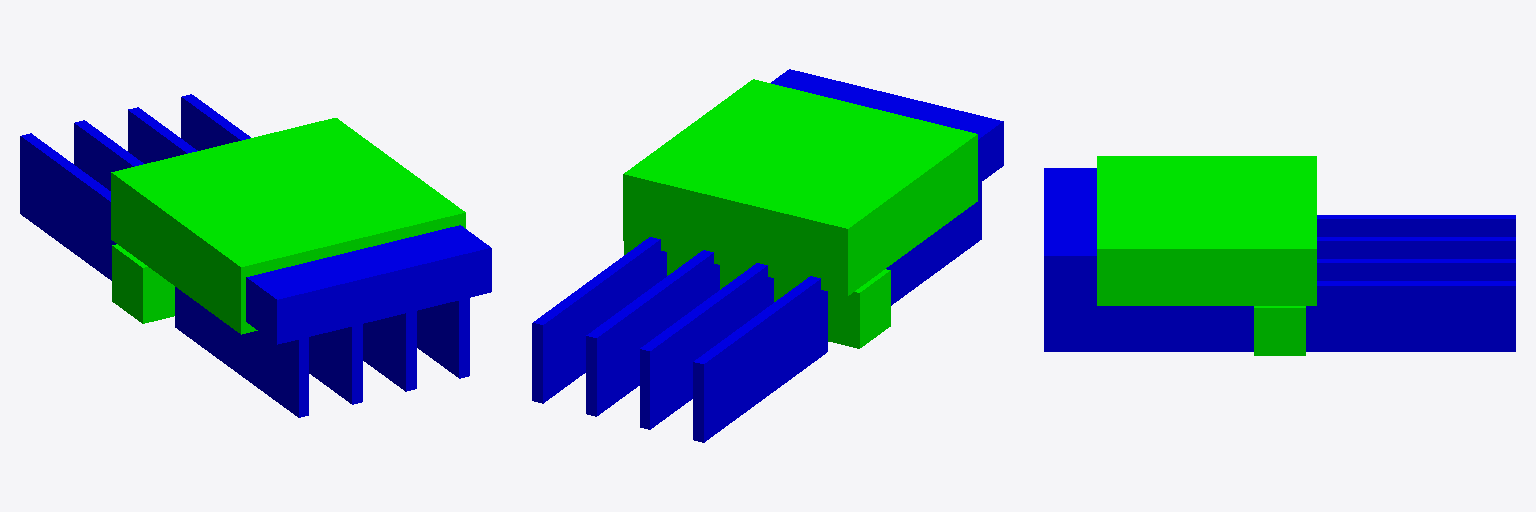
--- What the picture shows (computed from the rendered views, not written in the file) ---
Views: 3 orthographic renders of the robot side by side, from view 1: azimuth 30°, elevation 25°; view 2: azimuth 150°, elevation 25°; view 3: azimuth 270°, elevation 25°.
Model robot with 53 links and 52 joints (52 revolute), rooted at root, posed every joint at zero.
Links seen in each view (by area): view 1: [phone redacted] (×17), 000-100, 000-110, 000, 000-120, 020, 030, 010, 030-100, 020-100, 030-110, 030-120 (+5 smaller); view 2: [phone redacted] (×20), 000-120, 010-120, 030-120, 020-120, 000-100, 000-110, 020-110, 030-100, 020-100, 010-110, 030-110 (+5 smaller); view 3: [phone redacted] (×21), 030-120, 030-100, 030-110, 030, 010-120, 010-100, 010-110, 020-120, 000-120, 020-100, 020-110 (+5 smaller).
Boxes of the visible links, x1,y1,x2,y2 form: [phone redacted] (×17): (20, 94, 469, 417); 000-100: (198, 220, 304, 334); 000-110: (154, 188, 260, 302); 000: (246, 264, 330, 344); 000-120: (111, 159, 217, 270); 020: (354, 238, 437, 318); 030: (408, 225, 491, 304); 010: (300, 251, 383, 331); 030-100: (358, 181, 465, 238); 020-100: (305, 197, 410, 251); 030-110: (316, 149, 421, 195); 030-120: (272, 118, 378, 164); [phone redacted] (×20): (532, 182, 981, 442); 000-120: (784, 184, 890, 295); 010-120: (730, 169, 837, 282); 030-120: (623, 142, 719, 253); 020-120: (677, 156, 772, 266); 000-100: (871, 119, 977, 231); 000-110: (839, 150, 934, 264); 020-110: (720, 124, 826, 168); 030-100: (710, 79, 815, 123); 020-100: (764, 93, 869, 139); 010-110: (774, 140, 875, 183); 030-110: (667, 111, 770, 154); [phone redacted] (×21): (1044, 215, 1515, 355); 030-120: (1243, 223, 1316, 305); 030-100: (1097, 223, 1169, 305); 030-110: (1170, 223, 1242, 305); 030: (1044, 234, 1096, 293); 010-120: (1243, 178, 1316, 200); 010-100: (1097, 178, 1169, 200); 010-110: (1170, 178, 1242, 200); 020-120: (1243, 201, 1316, 222); 000-120: (1243, 156, 1316, 177); 020-100: (1097, 201, 1169, 222); 020-110: (1170, 201, 1242, 222).
Size in the robot's own frame: 2.2 by 4.5 by 1.2 metres.
Geometry: primitives only (box / cylinder / sphere), no mesh files.

robot.urdf — robot:
<robot name = "robot">
    <link name="root">
        <inertial>
            <origin xyz="0.0 0.0 1.5" rpy="0 0 0"/>
            <mass value="1" />
            <inertia ixx="100" ixy="0" ixz="0" iyy="100" iyz="0" izz="100" />
        </inertial>
        <visual>
            <origin xyz="0.0 0.0 1.5" rpy="0 0 0"/>
            <geometry>
                <box size="0 0 0.0001" />
            </geometry>
            <material name="Green">
                <color rgba="0 1.0 0.0 1.0"/>
            </material>
        </visual>
        <collision>
            <origin xyz="0.0 0.0 1.5" rpy="0 0 0"/>
            <geometry>
                <box size="0 0 0.0001" />
            </geometry>
        </collision>
    </link>
    <joint name="root_000" type="revolute">
       <parent link="root"/>
       <child  link="000"/>
       <origin rpy="0 0 0" xyz="0.0 0.0 1.5" />
     <axis xyz="1 0 0"/>
       <limit effort="0.0" lower="-3.14159" upper="3.14159" velocity="0.0"/>
    </joint>
    <link name="000">
        <inertial>
            <origin xyz="0.25 0.0 0.0" rpy="0 0 0"/>
            <mass value="1" />
            <inertia ixx="100" ixy="0" ixz="0" iyy="100" iyz="0" izz="100" />
        </inertial>
        <visual>
            <origin xyz="0.25 0.0 0.0" rpy="0 0 0"/>
            <geometry>
                <box size="0.5 0.5 0.4" />
            </geometry>
            <material name="Blue">
                <color rgba="0 0.0 1.0 1.0"/>
            </material>
        </visual>
        <collision>
            <origin xyz="0.25 0.0 0.0" rpy="0 0 0"/>
            <geometry>
                <box size="0.5 0.5 0.4" />
            </geometry>
        </collision>
    </link>
    <joint name="000_010" type="revolute">
       <parent link="000"/>
       <child  link="010"/>
       <origin rpy="0 0 0" xyz="0.5 0.0 -0.0" />
     <axis xyz="1 0 0"/>
       <limit effort="0.0" lower="-3.14159" upper="3.14159" velocity="0.0"/>
    </joint>
    <link name="010">
        <inertial>
            <origin xyz="0.25 0.0 -0.0" rpy="0 0 0"/>
            <mass value="1" />
            <inertia ixx="100" ixy="0" ixz="0" iyy="100" iyz="0" izz="100" />
        </inertial>
        <visual>
            <origin xyz="0.25 0.0 -0.0" rpy="0 0 0"/>
            <geometry>
                <box size="0.5 0.5 0.4" />
            </geometry>
            <material name="Blue">
                <color rgba="0 0.0 1.0 1.0"/>
            </material>
        </visual>
        <collision>
            <origin xyz="0.25 0.0 -0.0" rpy="0 0 0"/>
            <geometry>
                <box size="0.5 0.5 0.4" />
            </geometry>
        </collision>
    </link>
    <joint name="010_020" type="revolute">
       <parent link="010"/>
       <child  link="020"/>
       <origin rpy="0 0 0" xyz="0.5 0.0 -0.0" />
     <axis xyz="1 0 0"/>
       <limit effort="0.0" lower="-3.14159" upper="3.14159" velocity="0.0"/>
    </joint>
    <link name="020">
        <inertial>
            <origin xyz="0.25 0.0 -0.0" rpy="0 0 0"/>
            <mass value="1" />
            <inertia ixx="100" ixy="0" ixz="0" iyy="100" iyz="0" izz="100" />
        </inertial>
        <visual>
            <origin xyz="0.25 0.0 -0.0" rpy="0 0 0"/>
            <geometry>
                <box size="0.5 0.5 0.4" />
            </geometry>
            <material name="Blue">
                <color rgba="0 0.0 1.0 1.0"/>
            </material>
        </visual>
        <collision>
            <origin xyz="0.25 0.0 -0.0" rpy="0 0 0"/>
            <geometry>
                <box size="0.5 0.5 0.4" />
            </geometry>
        </collision>
    </link>
    <joint name="020_030" type="revolute">
       <parent link="020"/>
       <child  link="030"/>
       <origin rpy="0 0 0" xyz="0.5 0.0 -0.0" />
     <axis xyz="1 0 0"/>
       <limit effort="0.0" lower="-3.14159" upper="3.14159" velocity="0.0"/>
    </joint>
    <link name="030">
        <inertial>
            <origin xyz="0.25 0.0 -0.0" rpy="0 0 0"/>
            <mass value="1" />
            <inertia ixx="100" ixy="0" ixz="0" iyy="100" iyz="0" izz="100" />
        </inertial>
        <visual>
            <origin xyz="0.25 0.0 -0.0" rpy="0 0 0"/>
            <geometry>
                <box size="0.5 0.5 0.4" />
            </geometry>
            <material name="Blue">
                <color rgba="0 0.0 1.0 1.0"/>
            </material>
        </visual>
        <collision>
            <origin xyz="0.25 0.0 -0.0" rpy="0 0 0"/>
            <geometry>
                <box size="0.5 0.5 0.4" />
            </geometry>
        </collision>
    </link>
    <joint name="030_030-100" type="revolute">
       <parent link="030"/>
       <child  link="030-100"/>
       <origin rpy="0 0 0" xyz="0.25 0.25 -0.0" />
     <axis xyz="0 1 0"/>
       <limit effort="0.0" lower="-3.14159" upper="3.14159" velocity="0.0"/>
    </joint>
    <link name="030-100">
        <inertial>
            <origin xyz="0.0 0.35 -0.0" rpy="0 0 0"/>
            <mass value="1" />
            <inertia ixx="100" ixy="0" ixz="0" iyy="100" iyz="0" izz="100" />
        </inertial>
        <visual>
            <origin xyz="0.0 0.35 -0.0" rpy="0 0 0"/>
            <geometry>
                <box size="0.6 0.7 0.6" />
            </geometry>
            <material name="Green">
                <color rgba="0 1.0 0.0 1.0"/>
            </material>
        </visual>
        <collision>
            <origin xyz="0.0 0.35 -0.0" rpy="0 0 0"/>
            <geometry>
                <box size="0.6 0.7 0.6" />
            </geometry>
        </collision>
    </link>
    <joint name="030-100_030-110" type="revolute">
       <parent link="030-100"/>
       <child  link="030-110"/>
       <origin rpy="0 0 0" xyz="0.0 0.7 -0.0" />
     <axis xyz="0 1 0"/>
       <limit effort="0.0" lower="-3.14159" upper="3.14159" velocity="0.0"/>
    </joint>
    <link name="030-110">
        <inertial>
            <origin xyz="0.0 0.35 -0.0" rpy="0 0 0"/>
            <mass value="1" />
            <inertia ixx="100" ixy="0" ixz="0" iyy="100" iyz="0" izz="100" />
        </inertial>
        <visual>
            <origin xyz="0.0 0.35 -0.0" rpy="0 0 0"/>
            <geometry>
                <box size="0.6 0.7 0.6" />
            </geometry>
            <material name="Green">
                <color rgba="0 1.0 0.0 1.0"/>
            </material>
        </visual>
        <collision>
            <origin xyz="0.0 0.35 -0.0" rpy="0 0 0"/>
            <geometry>
                <box size="0.6 0.7 0.6" />
            </geometry>
        </collision>
    </link>
    <joint name="030-110_030-120" type="revolute">
       <parent link="030-110"/>
       <child  link="030-120"/>
       <origin rpy="0 0 0" xyz="0.0 0.7 -0.0" />
     <axis xyz="0 1 0"/>
       <limit effort="0.0" lower="-3.14159" upper="3.14159" velocity="0.0"/>
    </joint>
    <link name="030-120">
        <inertial>
            <origin xyz="0.0 0.35 -0.0" rpy="0 0 0"/>
            <mass value="1" />
            <inertia ixx="100" ixy="0" ixz="0" iyy="100" iyz="0" izz="100" />
        </inertial>
        <visual>
            <origin xyz="0.0 0.35 -0.0" rpy="0 0 0"/>
            <geometry>
                <box size="0.6 0.7 0.6" />
            </geometry>
            <material name="Green">
                <color rgba="0 1.0 0.0 1.0"/>
            </material>
        </visual>
        <collision>
            <origin xyz="0.0 0.35 -0.0" rpy="0 0 0"/>
            <geometry>
                <box size="0.6 0.7 0.6" />
            </geometry>
        </collision>
    </link>
    <joint name="030-120_030-120-200" type="revolute">
       <parent link="030-120"/>
       <child  link="030-120-200"/>
       <origin rpy="0 0 0" xyz="0.0 0.35 -0.3" />
     <axis xyz="0 0 1"/>
       <limit effort="0.0" lower="-3.14159" upper="3.14159" velocity="0.0"/>
    </joint>
    <link name="030-120-200">
        <inertial>
            <origin xyz="0.0 0.0 -0.25" rpy="0 0 0"/>
            <mass value="1" />
            <inertia ixx="100" ixy="0" ixz="0" iyy="100" iyz="0" izz="100" />
        </inertial>
        <visual>
            <origin xyz="0.0 0.0 -0.25" rpy="0 0 0"/>
            <geometry>
                <box size="0.7 0.5 0.5" />
            </geometry>
            <material name="Green">
                <color rgba="0 1.0 0.0 1.0"/>
            </material>
        </visual>
        <collision>
            <origin xyz="0.0 0.0 -0.25" rpy="0 0 0"/>
            <geometry>
                <box size="0.7 0.5 0.5" />
            </geometry>
        </collision>
    </link>
    <joint name="030-120-200_030-120-200-300" type="revolute">
       <parent link="030-120-200"/>
       <child  link="030-120-200-300"/>
       <origin rpy="0 0 0" xyz="0.0 0.25 -0.25" />
     <axis xyz="0 1 0"/>
       <limit effort="0.0" lower="-3.14159" upper="3.14159" velocity="0.0"/>
    </joint>
    <link name="030-120-200-300">
        <inertial>
            <origin xyz="0.0 0.25 -0.0" rpy="0 0 0"/>
            <mass value="1" />
            <inertia ixx="100" ixy="0" ixz="0" iyy="100" iyz="0" izz="100" />
        </inertial>
        <visual>
            <origin xyz="0.0 0.25 -0.0" rpy="0 0 0"/>
            <geometry>
                <box size="0.1 0.5 0.7" />
            </geometry>
            <material name="Blue">
                <color rgba="0 0.0 1.0 1.0"/>
            </material>
        </visual>
        <collision>
            <origin xyz="0.0 0.25 -0.0" rpy="0 0 0"/>
            <geometry>
                <box size="0.1 0.5 0.7" />
            </geometry>
        </collision>
    </link>
    <joint name="030-120-200-300_030-120-200-310" type="revolute">
       <parent link="030-120-200-300"/>
       <child  link="030-120-200-310"/>
       <origin rpy="0 0 0" xyz="0.0 0.5 -0.0" />
     <axis xyz="0 1 0"/>
       <limit effort="0.0" lower="-3.14159" upper="3.14159" velocity="0.0"/>
    </joint>
    <link name="030-120-200-310">
        <inertial>
            <origin xyz="0.0 0.25 -0.0" rpy="0 0 0"/>
            <mass value="1" />
            <inertia ixx="100" ixy="0" ixz="0" iyy="100" iyz="0" izz="100" />
        </inertial>
        <visual>
            <origin xyz="0.0 0.25 -0.0" rpy="0 0 0"/>
            <geometry>
                <box size="0.1 0.5 0.7" />
            </geometry>
            <material name="Blue">
                <color rgba="0 0.0 1.0 1.0"/>
            </material>
        </visual>
        <collision>
            <origin xyz="0.0 0.25 -0.0" rpy="0 0 0"/>
            <geometry>
                <box size="0.1 0.5 0.7" />
            </geometry>
        </collision>
    </link>
    <joint name="030-120-200-310_030-120-200-320" type="revolute">
       <parent link="030-120-200-310"/>
       <child  link="030-120-200-320"/>
       <origin rpy="0 0 0" xyz="0.0 0.5 -0.0" />
     <axis xyz="0 1 0"/>
       <limit effort="0.0" lower="-3.14159" upper="3.14159" velocity="0.0"/>
    </joint>
    <link name="030-120-200-320">
        <inertial>
            <origin xyz="0.0 0.25 -0.0" rpy="0 0 0"/>
            <mass value="1" />
            <inertia ixx="100" ixy="0" ixz="0" iyy="100" iyz="0" izz="100" />
        </inertial>
        <visual>
            <origin xyz="0.0 0.25 -0.0" rpy="0 0 0"/>
            <geometry>
                <box size="0.1 0.5 0.7" />
            </geometry>
            <material name="Blue">
                <color rgba="0 0.0 1.0 1.0"/>
            </material>
        </visual>
        <collision>
            <origin xyz="0.0 0.25 -0.0" rpy="0 0 0"/>
            <geometry>
                <box size="0.1 0.5 0.7" />
            </geometry>
        </collision>
    </link>
    <joint name="030-120-200-320_030-120-200-330" type="revolute">
       <parent link="030-120-200-320"/>
       <child  link="030-120-200-330"/>
       <origin rpy="0 0 0" xyz="0.0 0.5 -0.0" />
     <axis xyz="0 1 0"/>
       <limit effort="0.0" lower="-3.14159" upper="3.14159" velocity="0.0"/>
    </joint>
    <link name="030-120-200-330">
        <inertial>
            <origin xyz="0.0 0.25 -0.0" rpy="0 0 0"/>
            <mass value="1" />
            <inertia ixx="100" ixy="0" ixz="0" iyy="100" iyz="0" izz="100" />
        </inertial>
        <visual>
            <origin xyz="0.0 0.25 -0.0" rpy="0 0 0"/>
            <geometry>
                <box size="0.1 0.5 0.7" />
            </geometry>
            <material name="Blue">
                <color rgba="0 0.0 1.0 1.0"/>
            </material>
        </visual>
        <collision>
            <origin xyz="0.0 0.25 -0.0" rpy="0 0 0"/>
            <geometry>
                <box size="0.1 0.5 0.7" />
            </geometry>
        </collision>
    </link>
    <joint name="030-120-200_030-120-200-301" type="revolute">
       <parent link="030-120-200"/>
       <child  link="030-120-200-301"/>
       <origin rpy="0 0 0" xyz="0.0 -0.25 -0.25" />
     <axis xyz="0 1 0"/>
       <limit effort="0.0" lower="-3.14159" upper="3.14159" velocity="0.0"/>
    </joint>
    <link name="030-120-200-301">
        <inertial>
            <origin xyz="0.0 -0.25 -0.0" rpy="0 0 0"/>
            <mass value="1" />
            <inertia ixx="100" ixy="0" ixz="0" iyy="100" iyz="0" izz="100" />
        </inertial>
        <visual>
            <origin xyz="0.0 -0.25 -0.0" rpy="0 0 0"/>
            <geometry>
                <box size="0.1 0.5 0.7" />
            </geometry>
            <material name="Blue">
                <color rgba="0 0.0 1.0 1.0"/>
            </material>
        </visual>
        <collision>
            <origin xyz="0.0 -0.25 -0.0" rpy="0 0 0"/>
            <geometry>
                <box size="0.1 0.5 0.7" />
            </geometry>
        </collision>
    </link>
    <joint name="030-120-200-301_030-120-200-311" type="revolute">
       <parent link="030-120-200-301"/>
       <child  link="030-120-200-311"/>
       <origin rpy="0 0 0" xyz="0.0 -0.5 -0.0" />
     <axis xyz="0 1 0"/>
       <limit effort="0.0" lower="-3.14159" upper="3.14159" velocity="0.0"/>
    </joint>
    <link name="030-120-200-311">
        <inertial>
            <origin xyz="0.0 -0.25 -0.0" rpy="0 0 0"/>
            <mass value="1" />
            <inertia ixx="100" ixy="0" ixz="0" iyy="100" iyz="0" izz="100" />
        </inertial>
        <visual>
            <origin xyz="0.0 -0.25 -0.0" rpy="0 0 0"/>
            <geometry>
                <box size="0.1 0.5 0.7" />
            </geometry>
            <material name="Blue">
                <color rgba="0 0.0 1.0 1.0"/>
            </material>
        </visual>
        <collision>
            <origin xyz="0.0 -0.25 -0.0" rpy="0 0 0"/>
            <geometry>
                <box size="0.1 0.5 0.7" />
            </geometry>
        </collision>
    </link>
    <joint name="030-120-200-311_030-120-200-321" type="revolute">
       <parent link="030-120-200-311"/>
       <child  link="030-120-200-321"/>
       <origin rpy="0 0 0" xyz="0.0 -0.5 -0.0" />
     <axis xyz="0 1 0"/>
       <limit effort="0.0" lower="-3.14159" upper="3.14159" velocity="0.0"/>
    </joint>
    <link name="030-120-200-321">
        <inertial>
            <origin xyz="0.0 -0.25 -0.0" rpy="0 0 0"/>
            <mass value="1" />
            <inertia ixx="100" ixy="0" ixz="0" iyy="100" iyz="0" izz="100" />
        </inertial>
        <visual>
            <origin xyz="0.0 -0.25 -0.0" rpy="0 0 0"/>
            <geometry>
                <box size="0.1 0.5 0.7" />
            </geometry>
            <material name="Blue">
                <color rgba="0 0.0 1.0 1.0"/>
            </material>
        </visual>
        <collision>
            <origin xyz="0.0 -0.25 -0.0" rpy="0 0 0"/>
            <geometry>
                <box size="0.1 0.5 0.7" />
            </geometry>
        </collision>
    </link>
    <joint name="030-120-200-321_030-120-200-331" type="revolute">
       <parent link="030-120-200-321"/>
       <child  link="030-120-200-331"/>
       <origin rpy="0 0 0" xyz="0.0 -0.5 -0.0" />
     <axis xyz="0 1 0"/>
       <limit effort="0.0" lower="-3.14159" upper="3.14159" velocity="0.0"/>
    </joint>
    <link name="030-120-200-331">
        <inertial>
            <origin xyz="0.0 -0.25 -0.0" rpy="0 0 0"/>
            <mass value="1" />
            <inertia ixx="100" ixy="0" ixz="0" iyy="100" iyz="0" izz="100" />
        </inertial>
        <visual>
            <origin xyz="0.0 -0.25 -0.0" rpy="0 0 0"/>
            <geometry>
                <box size="0.1 0.5 0.7" />
            </geometry>
            <material name="Blue">
                <color rgba="0 0.0 1.0 1.0"/>
            </material>
        </visual>
        <collision>
            <origin xyz="0.0 -0.25 -0.0" rpy="0 0 0"/>
            <geometry>
                <box size="0.1 0.5 0.7" />
            </geometry>
        </collision>
    </link>
    <joint name="020_020-100" type="revolute">
       <parent link="020"/>
       <child  link="020-100"/>
       <origin rpy="0 0 0" xyz="0.25 0.25 -0.0" />
     <axis xyz="0 1 0"/>
       <limit effort="0.0" lower="-3.14159" upper="3.14159" velocity="0.0"/>
    </joint>
    <link name="020-100">
        <inertial>
            <origin xyz="0.0 0.35 -0.0" rpy="0 0 0"/>
            <mass value="1" />
            <inertia ixx="100" ixy="0" ixz="0" iyy="100" iyz="0" izz="100" />
        </inertial>
        <visual>
            <origin xyz="0.0 0.35 -0.0" rpy="0 0 0"/>
            <geometry>
                <box size="0.6 0.7 0.6" />
            </geometry>
            <material name="Green">
                <color rgba="0 1.0 0.0 1.0"/>
            </material>
        </visual>
        <collision>
            <origin xyz="0.0 0.35 -0.0" rpy="0 0 0"/>
            <geometry>
                <box size="0.6 0.7 0.6" />
            </geometry>
        </collision>
    </link>
    <joint name="020-100_020-110" type="revolute">
       <parent link="020-100"/>
       <child  link="020-110"/>
       <origin rpy="0 0 0" xyz="0.0 0.7 -0.0" />
     <axis xyz="0 1 0"/>
       <limit effort="0.0" lower="-3.14159" upper="3.14159" velocity="0.0"/>
    </joint>
    <link name="020-110">
        <inertial>
            <origin xyz="0.0 0.35 -0.0" rpy="0 0 0"/>
            <mass value="1" />
            <inertia ixx="100" ixy="0" ixz="0" iyy="100" iyz="0" izz="100" />
        </inertial>
        <visual>
            <origin xyz="0.0 0.35 -0.0" rpy="0 0 0"/>
            <geometry>
                <box size="0.6 0.7 0.6" />
            </geometry>
            <material name="Green">
                <color rgba="0 1.0 0.0 1.0"/>
            </material>
        </visual>
        <collision>
            <origin xyz="0.0 0.35 -0.0" rpy="0 0 0"/>
            <geometry>
                <box size="0.6 0.7 0.6" />
            </geometry>
        </collision>
    </link>
    <joint name="020-110_020-120" type="revolute">
       <parent link="020-110"/>
       <child  link="020-120"/>
       <origin rpy="0 0 0" xyz="0.0 0.7 -0.0" />
     <axis xyz="0 1 0"/>
       <limit effort="0.0" lower="-3.14159" upper="3.14159" velocity="0.0"/>
    </joint>
    <link name="020-120">
        <inertial>
            <origin xyz="0.0 0.35 -0.0" rpy="0 0 0"/>
            <mass value="1" />
            <inertia ixx="100" ixy="0" ixz="0" iyy="100" iyz="0" izz="100" />
        </inertial>
        <visual>
            <origin xyz="0.0 0.35 -0.0" rpy="0 0 0"/>
            <geometry>
                <box size="0.6 0.7 0.6" />
            </geometry>
            <material name="Green">
                <color rgba="0 1.0 0.0 1.0"/>
            </material>
        </visual>
        <collision>
            <origin xyz="0.0 0.35 -0.0" rpy="0 0 0"/>
            <geometry>
                <box size="0.6 0.7 0.6" />
            </geometry>
        </collision>
    </link>
    <joint name="020-120_020-120-200" type="revolute">
       <parent link="020-120"/>
       <child  link="020-120-200"/>
       <origin rpy="0 0 0" xyz="0.0 0.35 -0.3" />
     <axis xyz="0 0 1"/>
       <limit effort="0.0" lower="-3.14159" upper="3.14159" velocity="0.0"/>
    </joint>
    <link name="020-120-200">
        <inertial>
            <origin xyz="0.0 0.0 -0.25" rpy="0 0 0"/>
            <mass value="1" />
            <inertia ixx="100" ixy="0" ixz="0" iyy="100" iyz="0" izz="100" />
        </inertial>
        <visual>
            <origin xyz="0.0 0.0 -0.25" rpy="0 0 0"/>
            <geometry>
                <box size="0.7 0.5 0.5" />
            </geometry>
            <material name="Green">
                <color rgba="0 1.0 0.0 1.0"/>
            </material>
        </visual>
        <collision>
            <origin xyz="0.0 0.0 -0.25" rpy="0 0 0"/>
            <geometry>
                <box size="0.7 0.5 0.5" />
            </geometry>
        </collision>
    </link>
    <joint name="020-120-200_020-120-200-300" type="revolute">
       <parent link="020-120-200"/>
       <child  link="020-120-200-300"/>
       <origin rpy="0 0 0" xyz="0.0 0.25 -0.25" />
     <axis xyz="0 1 0"/>
       <limit effort="0.0" lower="-3.14159" upper="3.14159" velocity="0.0"/>
    </joint>
    <link name="020-120-200-300">
        <inertial>
            <origin xyz="0.0 0.25 -0.0" rpy="0 0 0"/>
            <mass value="1" />
            <inertia ixx="100" ixy="0" ixz="0" iyy="100" iyz="0" izz="100" />
        </inertial>
        <visual>
            <origin xyz="0.0 0.25 -0.0" rpy="0 0 0"/>
            <geometry>
                <box size="0.1 0.5 0.7" />
            </geometry>
            <material name="Blue">
                <color rgba="0 0.0 1.0 1.0"/>
            </material>
        </visual>
        <collision>
            <origin xyz="0.0 0.25 -0.0" rpy="0 0 0"/>
            <geometry>
                <box size="0.1 0.5 0.7" />
            </geometry>
        </collision>
    </link>
    <joint name="020-120-200-300_020-120-200-310" type="revolute">
       <parent link="020-120-200-300"/>
       <child  link="020-120-200-310"/>
       <origin rpy="0 0 0" xyz="0.0 0.5 -0.0" />
     <axis xyz="0 1 0"/>
       <limit effort="0.0" lower="-3.14159" upper="3.14159" velocity="0.0"/>
    </joint>
    <link name="020-120-200-310">
        <inertial>
            <origin xyz="0.0 0.25 -0.0" rpy="0 0 0"/>
            <mass value="1" />
            <inertia ixx="100" ixy="0" ixz="0" iyy="100" iyz="0" izz="100" />
        </inertial>
        <visual>
            <origin xyz="0.0 0.25 -0.0" rpy="0 0 0"/>
            <geometry>
                <box size="0.1 0.5 0.7" />
            </geometry>
            <material name="Blue">
                <color rgba="0 0.0 1.0 1.0"/>
            </material>
        </visual>
        <collision>
            <origin xyz="0.0 0.25 -0.0" rpy="0 0 0"/>
            <geometry>
                <box size="0.1 0.5 0.7" />
            </geometry>
        </collision>
    </link>
    <joint name="020-120-200-310_020-120-200-320" type="revolute">
       <parent link="020-120-200-310"/>
       <child  link="020-120-200-320"/>
       <origin rpy="0 0 0" xyz="0.0 0.5 -0.0" />
     <axis xyz="0 1 0"/>
       <limit effort="0.0" lower="-3.14159" upper="3.14159" velocity="0.0"/>
    </joint>
    <link name="020-120-200-320">
        <inertial>
            <origin xyz="0.0 0.25 -0.0" rpy="0 0 0"/>
            <mass value="1" />
            <inertia ixx="100" ixy="0" ixz="0" iyy="100" iyz="0" izz="100" />
        </inertial>
        <visual>
            <origin xyz="0.0 0.25 -0.0" rpy="0 0 0"/>
            <geometry>
                <box size="0.1 0.5 0.7" />
            </geometry>
            <material name="Blue">
                <color rgba="0 0.0 1.0 1.0"/>
            </material>
        </visual>
        <collision>
            <origin xyz="0.0 0.25 -0.0" rpy="0 0 0"/>
            <geometry>
                <box size="0.1 0.5 0.7" />
            </geometry>
        </collision>
    </link>
    <joint name="020-120-200-320_020-120-200-330" type="revolute">
       <parent link="020-120-200-320"/>
       <child  link="020-120-200-330"/>
       <origin rpy="0 0 0" xyz="0.0 0.5 -0.0" />
     <axis xyz="0 1 0"/>
       <limit effort="0.0" lower="-3.14159" upper="3.14159" velocity="0.0"/>
    </joint>
    <link name="020-120-200-330">
        <inertial>
            <origin xyz="0.0 0.25 -0.0" rpy="0 0 0"/>
            <mass value="1" />
            <inertia ixx="100" ixy="0" ixz="0" iyy="100" iyz="0" izz="100" />
        </inertial>
        <visual>
            <origin xyz="0.0 0.25 -0.0" rpy="0 0 0"/>
            <geometry>
                <box size="0.1 0.5 0.7" />
            </geometry>
            <material name="Blue">
                <color rgba="0 0.0 1.0 1.0"/>
            </material>
        </visual>
        <collision>
            <origin xyz="0.0 0.25 -0.0" rpy="0 0 0"/>
            <geometry>
                <box size="0.1 0.5 0.7" />
            </geometry>
        </collision>
    </link>
    <joint name="020-120-200_020-120-200-301" type="revolute">
       <parent link="020-120-200"/>
       <child  link="020-120-200-301"/>
       <origin rpy="0 0 0" xyz="0.0 -0.25 -0.25" />
     <axis xyz="0 1 0"/>
       <limit effort="0.0" lower="-3.14159" upper="3.14159" velocity="0.0"/>
    </joint>
    <link name="020-120-200-301">
        <inertial>
            <origin xyz="0.0 -0.25 -0.0" rpy="0 0 0"/>
            <mass value="1" />
            <inertia ixx="100" ixy="0" ixz="0" iyy="100" iyz="0" izz="100" />
        </inertial>
        <visual>
            <origin xyz="0.0 -0.25 -0.0" rpy="0 0 0"/>
            <geometry>
                <box size="0.1 0.5 0.7" />
            </geometry>
            <material name="Blue">
                <color rgba="0 0.0 1.0 1.0"/>
            </material>
        </visual>
        <collision>
            <origin xyz="0.0 -0.25 -0.0" rpy="0 0 0"/>
            <geometry>
                <box size="0.1 0.5 0.7" />
            </geometry>
        </collision>
    </link>
    <joint name="020-120-200-301_020-120-200-311" type="revolute">
       <parent link="020-120-200-301"/>
       <child  link="020-120-200-311"/>
       <origin rpy="0 0 0" xyz="0.0 -0.5 -0.0" />
     <axis xyz="0 1 0"/>
       <limit effort="0.0" lower="-3.14159" upper="3.14159" velocity="0.0"/>
    </joint>
    <link name="020-120-200-311">
        <inertial>
            <origin xyz="0.0 -0.25 -0.0" rpy="0 0 0"/>
            <mass value="1" />
            <inertia ixx="100" ixy="0" ixz="0" iyy="100" iyz="0" izz="100" />
        </inertial>
        <visual>
            <origin xyz="0.0 -0.25 -0.0" rpy="0 0 0"/>
            <geometry>
                <box size="0.1 0.5 0.7" />
            </geometry>
            <material name="Blue">
                <color rgba="0 0.0 1.0 1.0"/>
            </material>
        </visual>
        <collision>
            <origin xyz="0.0 -0.25 -0.0" rpy="0 0 0"/>
            <geometry>
                <box size="0.1 0.5 0.7" />
            </geometry>
        </collision>
    </link>
    <joint name="020-120-200-311_020-120-200-321" type="revolute">
       <parent link="020-120-200-311"/>
       <child  link="020-120-200-321"/>
       <origin rpy="0 0 0" xyz="0.0 -0.5 -0.0" />
     <axis xyz="0 1 0"/>
       <limit effort="0.0" lower="-3.14159" upper="3.14159" velocity="0.0"/>
    </joint>
    <link name="020-120-200-321">
        <inertial>
            <origin xyz="0.0 -0.25 -0.0" rpy="0 0 0"/>
            <mass value="1" />
            <inertia ixx="100" ixy="0" ixz="0" iyy="100" iyz="0" izz="100" />
        </inertial>
        <visual>
            <origin xyz="0.0 -0.25 -0.0" rpy="0 0 0"/>
            <geometry>
                <box size="0.1 0.5 0.7" />
            </geometry>
            <material name="Blue">
                <color rgba="0 0.0 1.0 1.0"/>
            </material>
        </visual>
        <collision>
            <origin xyz="0.0 -0.25 -0.0" rpy="0 0 0"/>
            <geometry>
                <box size="0.1 0.5 0.7" />
            </geometry>
        </collision>
    </link>
    <joint name="020-120-200-321_020-120-200-331" type="revolute">
       <parent link="020-120-200-321"/>
       <child  link="020-120-200-331"/>
       <origin rpy="0 0 0" xyz="0.0 -0.5 -0.0" />
     <axis xyz="0 1 0"/>
       <limit effort="0.0" lower="-3.14159" upper="3.14159" velocity="0.0"/>
    </joint>
    <link name="020-120-200-331">
        <inertial>
            <origin xyz="0.0 -0.25 -0.0" rpy="0 0 0"/>
            <mass value="1" />
            <inertia ixx="100" ixy="0" ixz="0" iyy="100" iyz="0" izz="100" />
        </inertial>
        <visual>
            <origin xyz="0.0 -0.25 -0.0" rpy="0 0 0"/>
            <geometry>
                <box size="0.1 0.5 0.7" />
            </geometry>
            <material name="Blue">
                <color rgba="0 0.0 1.0 1.0"/>
            </material>
        </visual>
        <collision>
            <origin xyz="0.0 -0.25 -0.0" rpy="0 0 0"/>
            <geometry>
                <box size="0.1 0.5 0.7" />
            </geometry>
        </collision>
    </link>
    <joint name="010_010-100" type="revolute">
       <parent link="010"/>
       <child  link="010-100"/>
       <origin rpy="0 0 0" xyz="0.25 0.25 -0.0" />
     <axis xyz="0 1 0"/>
       <limit effort="0.0" lower="-3.14159" upper="3.14159" velocity="0.0"/>
    </joint>
    <link name="010-100">
        <inertial>
            <origin xyz="0.0 0.35 -0.0" rpy="0 0 0"/>
            <mass value="1" />
            <inertia ixx="100" ixy="0" ixz="0" iyy="100" iyz="0" izz="100" />
        </inertial>
        <visual>
            <origin xyz="0.0 0.35 -0.0" rpy="0 0 0"/>
            <geometry>
                <box size="0.6 0.7 0.6" />
            </geometry>
            <material name="Green">
                <color rgba="0 1.0 0.0 1.0"/>
            </material>
        </visual>
        <collision>
            <origin xyz="0.0 0.35 -0.0" rpy="0 0 0"/>
            <geometry>
                <box size="0.6 0.7 0.6" />
            </geometry>
        </collision>
    </link>
    <joint name="010-100_010-110" type="revolute">
       <parent link="010-100"/>
       <child  link="010-110"/>
       <origin rpy="0 0 0" xyz="0.0 0.7 -0.0" />
     <axis xyz="0 1 0"/>
       <limit effort="0.0" lower="-3.14159" upper="3.14159" velocity="0.0"/>
    </joint>
    <link name="010-110">
        <inertial>
            <origin xyz="0.0 0.35 -0.0" rpy="0 0 0"/>
            <mass value="1" />
            <inertia ixx="100" ixy="0" ixz="0" iyy="100" iyz="0" izz="100" />
        </inertial>
        <visual>
            <origin xyz="0.0 0.35 -0.0" rpy="0 0 0"/>
            <geometry>
                <box size="0.6 0.7 0.6" />
            </geometry>
            <material name="Green">
                <color rgba="0 1.0 0.0 1.0"/>
            </material>
        </visual>
        <collision>
            <origin xyz="0.0 0.35 -0.0" rpy="0 0 0"/>
            <geometry>
                <box size="0.6 0.7 0.6" />
            </geometry>
        </collision>
    </link>
    <joint name="010-110_010-120" type="revolute">
       <parent link="010-110"/>
       <child  link="010-120"/>
       <origin rpy="0 0 0" xyz="0.0 0.7 -0.0" />
     <axis xyz="0 1 0"/>
       <limit effort="0.0" lower="-3.14159" upper="3.14159" velocity="0.0"/>
    </joint>
    <link name="010-120">
        <inertial>
            <origin xyz="0.0 0.35 -0.0" rpy="0 0 0"/>
            <mass value="1" />
            <inertia ixx="100" ixy="0" ixz="0" iyy="100" iyz="0" izz="100" />
        </inertial>
        <visual>
            <origin xyz="0.0 0.35 -0.0" rpy="0 0 0"/>
            <geometry>
                <box size="0.6 0.7 0.6" />
            </geometry>
            <material name="Green">
                <color rgba="0 1.0 0.0 1.0"/>
            </material>
        </visual>
        <collision>
            <origin xyz="0.0 0.35 -0.0" rpy="0 0 0"/>
            <geometry>
                <box size="0.6 0.7 0.6" />
            </geometry>
        </collision>
    </link>
    <joint name="010-120_010-120-200" type="revolute">
       <parent link="010-120"/>
       <child  link="010-120-200"/>
       <origin rpy="0 0 0" xyz="0.0 0.35 -0.3" />
     <axis xyz="0 0 1"/>
       <limit effort="0.0" lower="-3.14159" upper="3.14159" velocity="0.0"/>
    </joint>
    <link name="010-120-200">
        <inertial>
            <origin xyz="0.0 0.0 -0.25" rpy="0 0 0"/>
            <mass value="1" />
            <inertia ixx="100" ixy="0" ixz="0" iyy="100" iyz="0" izz="100" />
        </inertial>
        <visual>
            <origin xyz="0.0 0.0 -0.25" rpy="0 0 0"/>
            <geometry>
                <box size="0.7 0.5 0.5" />
            </geometry>
            <material name="Green">
                <color rgba="0 1.0 0.0 1.0"/>
            </material>
        </visual>
        <collision>
            <origin xyz="0.0 0.0 -0.25" rpy="0 0 0"/>
            <geometry>
                <box size="0.7 0.5 0.5" />
            </geometry>
        </collision>
    </link>
    <joint name="010-120-200_010-120-200-300" type="revolute">
       <parent link="010-120-200"/>
       <child  link="010-120-200-300"/>
       <origin rpy="0 0 0" xyz="0.0 0.25 -0.25" />
     <axis xyz="0 1 0"/>
       <limit effort="0.0" lower="-3.14159" upper="3.14159" velocity="0.0"/>
    </joint>
    <link name="010-120-200-300">
        <inertial>
            <origin xyz="0.0 0.25 -0.0" rpy="0 0 0"/>
            <mass value="1" />
            <inertia ixx="100" ixy="0" ixz="0" iyy="100" iyz="0" izz="100" />
        </inertial>
        <visual>
            <origin xyz="0.0 0.25 -0.0" rpy="0 0 0"/>
            <geometry>
                <box size="0.1 0.5 0.7" />
            </geometry>
            <material name="Blue">
                <color rgba="0 0.0 1.0 1.0"/>
            </material>
        </visual>
        <collision>
            <origin xyz="0.0 0.25 -0.0" rpy="0 0 0"/>
            <geometry>
                <box size="0.1 0.5 0.7" />
            </geometry>
        </collision>
    </link>
    <joint name="010-120-200-300_010-120-200-310" type="revolute">
       <parent link="010-120-200-300"/>
       <child  link="010-120-200-310"/>
       <origin rpy="0 0 0" xyz="0.0 0.5 -0.0" />
     <axis xyz="0 1 0"/>
       <limit effort="0.0" lower="-3.14159" upper="3.14159" velocity="0.0"/>
    </joint>
    <link name="010-120-200-310">
        <inertial>
            <origin xyz="0.0 0.25 -0.0" rpy="0 0 0"/>
            <mass value="1" />
            <inertia ixx="100" ixy="0" ixz="0" iyy="100" iyz="0" izz="100" />
        </inertial>
        <visual>
            <origin xyz="0.0 0.25 -0.0" rpy="0 0 0"/>
            <geometry>
                <box size="0.1 0.5 0.7" />
            </geometry>
            <material name="Blue">
                <color rgba="0 0.0 1.0 1.0"/>
            </material>
        </visual>
        <collision>
            <origin xyz="0.0 0.25 -0.0" rpy="0 0 0"/>
            <geometry>
                <box size="0.1 0.5 0.7" />
            </geometry>
        </collision>
    </link>
    <joint name="010-120-200-310_010-120-200-320" type="revolute">
       <parent link="010-120-200-310"/>
       <child  link="010-120-200-320"/>
       <origin rpy="0 0 0" xyz="0.0 0.5 -0.0" />
     <axis xyz="0 1 0"/>
       <limit effort="0.0" lower="-3.14159" upper="3.14159" velocity="0.0"/>
    </joint>
    <link name="010-120-200-320">
        <inertial>
            <origin xyz="0.0 0.25 -0.0" rpy="0 0 0"/>
            <mass value="1" />
            <inertia ixx="100" ixy="0" ixz="0" iyy="100" iyz="0" izz="100" />
        </inertial>
        <visual>
            <origin xyz="0.0 0.25 -0.0" rpy="0 0 0"/>
            <geometry>
                <box size="0.1 0.5 0.7" />
            </geometry>
            <material name="Blue">
                <color rgba="0 0.0 1.0 1.0"/>
            </material>
        </visual>
        <collision>
            <origin xyz="0.0 0.25 -0.0" rpy="0 0 0"/>
            <geometry>
                <box size="0.1 0.5 0.7" />
            </geometry>
        </collision>
    </link>
    <joint name="010-120-200-320_010-120-200-330" type="revolute">
       <parent link="010-120-200-320"/>
       <child  link="010-120-200-330"/>
       <origin rpy="0 0 0" xyz="0.0 0.5 -0.0" />
     <axis xyz="0 1 0"/>
       <limit effort="0.0" lower="-3.14159" upper="3.14159" velocity="0.0"/>
    </joint>
    <link name="010-120-200-330">
        <inertial>
            <origin xyz="0.0 0.25 -0.0" rpy="0 0 0"/>
            <mass value="1" />
            <inertia ixx="100" ixy="0" ixz="0" iyy="100" iyz="0" izz="100" />
        </inertial>
        <visual>
            <origin xyz="0.0 0.25 -0.0" rpy="0 0 0"/>
            <geometry>
                <box size="0.1 0.5 0.7" />
            </geometry>
            <material name="Blue">
                <color rgba="0 0.0 1.0 1.0"/>
            </material>
        </visual>
        <collision>
            <origin xyz="0.0 0.25 -0.0" rpy="0 0 0"/>
            <geometry>
                <box size="0.1 0.5 0.7" />
            </geometry>
        </collision>
    </link>
    <joint name="010-120-200_010-120-200-301" type="revolute">
       <parent link="010-120-200"/>
       <child  link="010-120-200-301"/>
       <origin rpy="0 0 0" xyz="0.0 -0.25 -0.25" />
     <axis xyz="0 1 0"/>
       <limit effort="0.0" lower="-3.14159" upper="3.14159" velocity="0.0"/>
    </joint>
    <link name="010-120-200-301">
        <inertial>
            <origin xyz="0.0 -0.25 -0.0" rpy="0 0 0"/>
            <mass value="1" />
            <inertia ixx="100" ixy="0" ixz="0" iyy="100" iyz="0" izz="100" />
        </inertial>
        <visual>
            <origin xyz="0.0 -0.25 -0.0" rpy="0 0 0"/>
            <geometry>
                <box size="0.1 0.5 0.7" />
            </geometry>
            <material name="Blue">
                <color rgba="0 0.0 1.0 1.0"/>
            </material>
        </visual>
        <collision>
            <origin xyz="0.0 -0.25 -0.0" rpy="0 0 0"/>
            <geometry>
                <box size="0.1 0.5 0.7" />
            </geometry>
        </collision>
    </link>
    <joint name="010-120-200-301_010-120-200-311" type="revolute">
       <parent link="010-120-200-301"/>
       <child  link="010-120-200-311"/>
       <origin rpy="0 0 0" xyz="0.0 -0.5 -0.0" />
     <axis xyz="0 1 0"/>
       <limit effort="0.0" lower="-3.14159" upper="3.14159" velocity="0.0"/>
    </joint>
    <link name="010-120-200-311">
        <inertial>
            <origin xyz="0.0 -0.25 -0.0" rpy="0 0 0"/>
            <mass value="1" />
            <inertia ixx="100" ixy="0" ixz="0" iyy="100" iyz="0" izz="100" />
        </inertial>
        <visual>
            <origin xyz="0.0 -0.25 -0.0" rpy="0 0 0"/>
            <geometry>
                <box size="0.1 0.5 0.7" />
            </geometry>
            <material name="Blue">
                <color rgba="0 0.0 1.0 1.0"/>
            </material>
        </visual>
        <collision>
            <origin xyz="0.0 -0.25 -0.0" rpy="0 0 0"/>
            <geometry>
                <box size="0.1 0.5 0.7" />
            </geometry>
        </collision>
    </link>
    <joint name="010-120-200-311_010-120-200-321" type="revolute">
       <parent link="010-120-200-311"/>
       <child  link="010-120-200-321"/>
       <origin rpy="0 0 0" xyz="0.0 -0.5 -0.0" />
     <axis xyz="0 1 0"/>
       <limit effort="0.0" lower="-3.14159" upper="3.14159" velocity="0.0"/>
    </joint>
    <link name="010-120-200-321">
        <inertial>
            <origin xyz="0.0 -0.25 -0.0" rpy="0 0 0"/>
            <mass value="1" />
            <inertia ixx="100" ixy="0" ixz="0" iyy="100" iyz="0" izz="100" />
        </inertial>
        <visual>
            <origin xyz="0.0 -0.25 -0.0" rpy="0 0 0"/>
            <geometry>
                <box size="0.1 0.5 0.7" />
            </geometry>
            <material name="Blue">
                <color rgba="0 0.0 1.0 1.0"/>
            </material>
        </visual>
        <collision>
            <origin xyz="0.0 -0.25 -0.0" rpy="0 0 0"/>
            <geometry>
                <box size="0.1 0.5 0.7" />
            </geometry>
        </collision>
    </link>
    <joint name="010-120-200-321_010-120-200-331" type="revolute">
       <parent link="010-120-200-321"/>
       <child  link="010-120-200-331"/>
       <origin rpy="0 0 0" xyz="0.0 -0.5 -0.0" />
     <axis xyz="0 1 0"/>
       <limit effort="0.0" lower="-3.14159" upper="3.14159" velocity="0.0"/>
    </joint>
    <link name="010-120-200-331">
        <inertial>
            <origin xyz="0.0 -0.25 -0.0" rpy="0 0 0"/>
            <mass value="1" />
            <inertia ixx="100" ixy="0" ixz="0" iyy="100" iyz="0" izz="100" />
        </inertial>
        <visual>
            <origin xyz="0.0 -0.25 -0.0" rpy="0 0 0"/>
            <geometry>
                <box size="0.1 0.5 0.7" />
            </geometry>
            <material name="Blue">
                <color rgba="0 0.0 1.0 1.0"/>
            </material>
        </visual>
        <collision>
            <origin xyz="0.0 -0.25 -0.0" rpy="0 0 0"/>
            <geometry>
                <box size="0.1 0.5 0.7" />
            </geometry>
        </collision>
    </link>
    <joint name="000_000-100" type="revolute">
       <parent link="000"/>
       <child  link="000-100"/>
       <origin rpy="0 0 0" xyz="0.25 0.25 -0.0" />
     <axis xyz="0 1 0"/>
       <limit effort="0.0" lower="-3.14159" upper="3.14159" velocity="0.0"/>
    </joint>
    <link name="000-100">
        <inertial>
            <origin xyz="0.0 0.35 -0.0" rpy="0 0 0"/>
            <mass value="1" />
            <inertia ixx="100" ixy="0" ixz="0" iyy="100" iyz="0" izz="100" />
        </inertial>
        <visual>
            <origin xyz="0.0 0.35 -0.0" rpy="0 0 0"/>
            <geometry>
                <box size="0.6 0.7 0.6" />
            </geometry>
            <material name="Green">
                <color rgba="0 1.0 0.0 1.0"/>
            </material>
        </visual>
        <collision>
            <origin xyz="0.0 0.35 -0.0" rpy="0 0 0"/>
            <geometry>
                <box size="0.6 0.7 0.6" />
            </geometry>
        </collision>
    </link>
    <joint name="000-100_000-110" type="revolute">
       <parent link="000-100"/>
       <child  link="000-110"/>
       <origin rpy="0 0 0" xyz="0.0 0.7 -0.0" />
     <axis xyz="0 1 0"/>
       <limit effort="0.0" lower="-3.14159" upper="3.14159" velocity="0.0"/>
    </joint>
    <link name="000-110">
        <inertial>
            <origin xyz="0.0 0.35 -0.0" rpy="0 0 0"/>
            <mass value="1" />
            <inertia ixx="100" ixy="0" ixz="0" iyy="100" iyz="0" izz="100" />
        </inertial>
        <visual>
            <origin xyz="0.0 0.35 -0.0" rpy="0 0 0"/>
            <geometry>
                <box size="0.6 0.7 0.6" />
            </geometry>
            <material name="Green">
                <color rgba="0 1.0 0.0 1.0"/>
            </material>
        </visual>
        <collision>
            <origin xyz="0.0 0.35 -0.0" rpy="0 0 0"/>
            <geometry>
                <box size="0.6 0.7 0.6" />
            </geometry>
        </collision>
    </link>
    <joint name="000-110_000-120" type="revolute">
       <parent link="000-110"/>
       <child  link="000-120"/>
       <origin rpy="0 0 0" xyz="0.0 0.7 -0.0" />
     <axis xyz="0 1 0"/>
       <limit effort="0.0" lower="-3.14159" upper="3.14159" velocity="0.0"/>
    </joint>
    <link name="000-120">
        <inertial>
            <origin xyz="0.0 0.35 -0.0" rpy="0 0 0"/>
            <mass value="1" />
            <inertia ixx="100" ixy="0" ixz="0" iyy="100" iyz="0" izz="100" />
        </inertial>
        <visual>
            <origin xyz="0.0 0.35 -0.0" rpy="0 0 0"/>
            <geometry>
                <box size="0.6 0.7 0.6" />
            </geometry>
            <material name="Green">
                <color rgba="0 1.0 0.0 1.0"/>
            </material>
        </visual>
        <collision>
            <origin xyz="0.0 0.35 -0.0" rpy="0 0 0"/>
            <geometry>
                <box size="0.6 0.7 0.6" />
            </geometry>
        </collision>
    </link>
    <joint name="000-120_000-120-200" type="revolute">
       <parent link="000-120"/>
       <child  link="000-120-200"/>
       <origin rpy="0 0 0" xyz="0.0 0.35 -0.3" />
     <axis xyz="0 0 1"/>
       <limit effort="0.0" lower="-3.14159" upper="3.14159" velocity="0.0"/>
    </joint>
    <link name="000-120-200">
        <inertial>
            <origin xyz="0.0 0.0 -0.25" rpy="0 0 0"/>
            <mass value="1" />
            <inertia ixx="100" ixy="0" ixz="0" iyy="100" iyz="0" izz="100" />
        </inertial>
        <visual>
            <origin xyz="0.0 0.0 -0.25" rpy="0 0 0"/>
            <geometry>
                <box size="0.7 0.5 0.5" />
            </geometry>
            <material name="Green">
                <color rgba="0 1.0 0.0 1.0"/>
            </material>
        </visual>
        <collision>
            <origin xyz="0.0 0.0 -0.25" rpy="0 0 0"/>
            <geometry>
                <box size="0.7 0.5 0.5" />
            </geometry>
        </collision>
    </link>
    <joint name="000-120-200_000-120-200-300" type="revolute">
       <parent link="000-120-200"/>
       <child  link="000-120-200-300"/>
       <origin rpy="0 0 0" xyz="0.0 0.25 -0.25" />
     <axis xyz="0 1 0"/>
       <limit effort="0.0" lower="-3.14159" upper="3.14159" velocity="0.0"/>
    </joint>
    <link name="000-120-200-300">
        <inertial>
            <origin xyz="0.0 0.25 -0.0" rpy="0 0 0"/>
            <mass value="1" />
            <inertia ixx="100" ixy="0" ixz="0" iyy="100" iyz="0" izz="100" />
        </inertial>
        <visual>
            <origin xyz="0.0 0.25 -0.0" rpy="0 0 0"/>
            <geometry>
                <box size="0.1 0.5 0.7" />
            </geometry>
            <material name="Blue">
                <color rgba="0 0.0 1.0 1.0"/>
            </material>
        </visual>
        <collision>
            <origin xyz="0.0 0.25 -0.0" rpy="0 0 0"/>
            <geometry>
                <box size="0.1 0.5 0.7" />
            </geometry>
        </collision>
    </link>
    <joint name="000-120-200-300_000-120-200-310" type="revolute">
       <parent link="000-120-200-300"/>
       <child  link="000-120-200-310"/>
       <origin rpy="0 0 0" xyz="0.0 0.5 -0.0" />
     <axis xyz="0 1 0"/>
       <limit effort="0.0" lower="-3.14159" upper="3.14159" velocity="0.0"/>
    </joint>
    <link name="000-120-200-310">
        <inertial>
            <origin xyz="0.0 0.25 -0.0" rpy="0 0 0"/>
            <mass value="1" />
            <inertia ixx="100" ixy="0" ixz="0" iyy="100" iyz="0" izz="100" />
        </inertial>
        <visual>
            <origin xyz="0.0 0.25 -0.0" rpy="0 0 0"/>
            <geometry>
                <box size="0.1 0.5 0.7" />
            </geometry>
            <material name="Blue">
                <color rgba="0 0.0 1.0 1.0"/>
            </material>
        </visual>
        <collision>
            <origin xyz="0.0 0.25 -0.0" rpy="0 0 0"/>
            <geometry>
                <box size="0.1 0.5 0.7" />
            </geometry>
        </collision>
    </link>
    <joint name="000-120-200-310_000-120-200-320" type="revolute">
       <parent link="000-120-200-310"/>
       <child  link="000-120-200-320"/>
       <origin rpy="0 0 0" xyz="0.0 0.5 -0.0" />
     <axis xyz="0 1 0"/>
       <limit effort="0.0" lower="-3.14159" upper="3.14159" velocity="0.0"/>
    </joint>
    <link name="000-120-200-320">
        <inertial>
            <origin xyz="0.0 0.25 -0.0" rpy="0 0 0"/>
            <mass value="1" />
            <inertia ixx="100" ixy="0" ixz="0" iyy="100" iyz="0" izz="100" />
        </inertial>
        <visual>
            <origin xyz="0.0 0.25 -0.0" rpy="0 0 0"/>
            <geometry>
                <box size="0.1 0.5 0.7" />
            </geometry>
            <material name="Blue">
                <color rgba="0 0.0 1.0 1.0"/>
            </material>
        </visual>
        <collision>
            <origin xyz="0.0 0.25 -0.0" rpy="0 0 0"/>
            <geometry>
                <box size="0.1 0.5 0.7" />
            </geometry>
        </collision>
    </link>
    <joint name="000-120-200-320_000-120-200-330" type="revolute">
       <parent link="000-120-200-320"/>
       <child  link="000-120-200-330"/>
       <origin rpy="0 0 0" xyz="0.0 0.5 -0.0" />
     <axis xyz="0 1 0"/>
       <limit effort="0.0" lower="-3.14159" upper="3.14159" velocity="0.0"/>
    </joint>
    <link name="000-120-200-330">
        <inertial>
            <origin xyz="0.0 0.25 -0.0" rpy="0 0 0"/>
            <mass value="1" />
            <inertia ixx="100" ixy="0" ixz="0" iyy="100" iyz="0" izz="100" />
        </inertial>
        <visual>
            <origin xyz="0.0 0.25 -0.0" rpy="0 0 0"/>
            <geometry>
                <box size="0.1 0.5 0.7" />
            </geometry>
            <material name="Blue">
                <color rgba="0 0.0 1.0 1.0"/>
            </material>
        </visual>
        <collision>
            <origin xyz="0.0 0.25 -0.0" rpy="0 0 0"/>
            <geometry>
                <box size="0.1 0.5 0.7" />
            </geometry>
        </collision>
    </link>
    <joint name="000-120-200_000-120-200-301" type="revolute">
       <parent link="000-120-200"/>
       <child  link="000-120-200-301"/>
       <origin rpy="0 0 0" xyz="0.0 -0.25 -0.25" />
     <axis xyz="0 1 0"/>
       <limit effort="0.0" lower="-3.14159" upper="3.14159" velocity="0.0"/>
    </joint>
    <link name="000-120-200-301">
        <inertial>
            <origin xyz="0.0 -0.25 -0.0" rpy="0 0 0"/>
            <mass value="1" />
            <inertia ixx="100" ixy="0" ixz="0" iyy="100" iyz="0" izz="100" />
        </inertial>
        <visual>
            <origin xyz="0.0 -0.25 -0.0" rpy="0 0 0"/>
            <geometry>
                <box size="0.1 0.5 0.7" />
            </geometry>
            <material name="Blue">
                <color rgba="0 0.0 1.0 1.0"/>
            </material>
        </visual>
        <collision>
            <origin xyz="0.0 -0.25 -0.0" rpy="0 0 0"/>
            <geometry>
                <box size="0.1 0.5 0.7" />
            </geometry>
        </collision>
    </link>
    <joint name="000-120-200-301_000-120-200-311" type="revolute">
       <parent link="000-120-200-301"/>
       <child  link="000-120-200-311"/>
       <origin rpy="0 0 0" xyz="0.0 -0.5 -0.0" />
     <axis xyz="0 1 0"/>
       <limit effort="0.0" lower="-3.14159" upper="3.14159" velocity="0.0"/>
    </joint>
    <link name="000-120-200-311">
        <inertial>
            <origin xyz="0.0 -0.25 -0.0" rpy="0 0 0"/>
            <mass value="1" />
            <inertia ixx="100" ixy="0" ixz="0" iyy="100" iyz="0" izz="100" />
        </inertial>
        <visual>
            <origin xyz="0.0 -0.25 -0.0" rpy="0 0 0"/>
            <geometry>
                <box size="0.1 0.5 0.7" />
            </geometry>
            <material name="Blue">
                <color rgba="0 0.0 1.0 1.0"/>
            </material>
        </visual>
        <collision>
            <origin xyz="0.0 -0.25 -0.0" rpy="0 0 0"/>
            <geometry>
                <box size="0.1 0.5 0.7" />
            </geometry>
        </collision>
    </link>
    <joint name="000-120-200-311_000-120-200-321" type="revolute">
       <parent link="000-120-200-311"/>
       <child  link="000-120-200-321"/>
       <origin rpy="0 0 0" xyz="0.0 -0.5 -0.0" />
     <axis xyz="0 1 0"/>
       <limit effort="0.0" lower="-3.14159" upper="3.14159" velocity="0.0"/>
    </joint>
    <link name="000-120-200-321">
        <inertial>
            <origin xyz="0.0 -0.25 -0.0" rpy="0 0 0"/>
            <mass value="1" />
            <inertia ixx="100" ixy="0" ixz="0" iyy="100" iyz="0" izz="100" />
        </inertial>
        <visual>
            <origin xyz="0.0 -0.25 -0.0" rpy="0 0 0"/>
            <geometry>
                <box size="0.1 0.5 0.7" />
            </geometry>
            <material name="Blue">
                <color rgba="0 0.0 1.0 1.0"/>
            </material>
        </visual>
        <collision>
            <origin xyz="0.0 -0.25 -0.0" rpy="0 0 0"/>
            <geometry>
                <box size="0.1 0.5 0.7" />
            </geometry>
        </collision>
    </link>
    <joint name="000-120-200-321_000-120-200-331" type="revolute">
       <parent link="000-120-200-321"/>
       <child  link="000-120-200-331"/>
       <origin rpy="0 0 0" xyz="0.0 -0.5 -0.0" />
     <axis xyz="0 1 0"/>
       <limit effort="0.0" lower="-3.14159" upper="3.14159" velocity="0.0"/>
    </joint>
    <link name="000-120-200-331">
        <inertial>
            <origin xyz="0.0 -0.25 -0.0" rpy="0 0 0"/>
            <mass value="1" />
            <inertia ixx="100" ixy="0" ixz="0" iyy="100" iyz="0" izz="100" />
        </inertial>
        <visual>
            <origin xyz="0.0 -0.25 -0.0" rpy="0 0 0"/>
            <geometry>
                <box size="0.1 0.5 0.7" />
            </geometry>
            <material name="Blue">
                <color rgba="0 0.0 1.0 1.0"/>
            </material>
        </visual>
        <collision>
            <origin xyz="0.0 -0.25 -0.0" rpy="0 0 0"/>
            <geometry>
                <box size="0.1 0.5 0.7" />
            </geometry>
        </collision>
    </link>
</robot>
